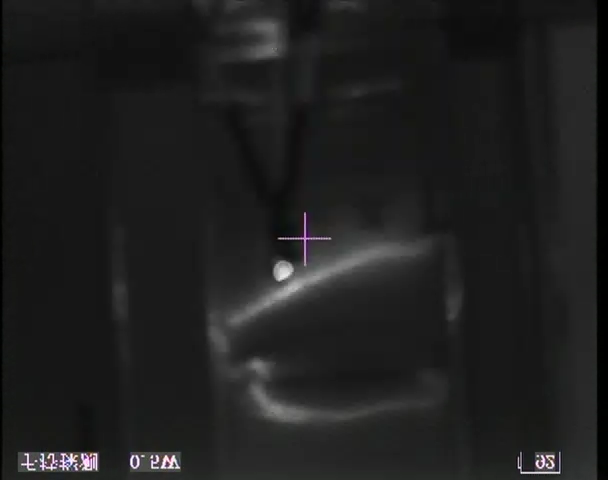my: (270, 258, 295, 284)
